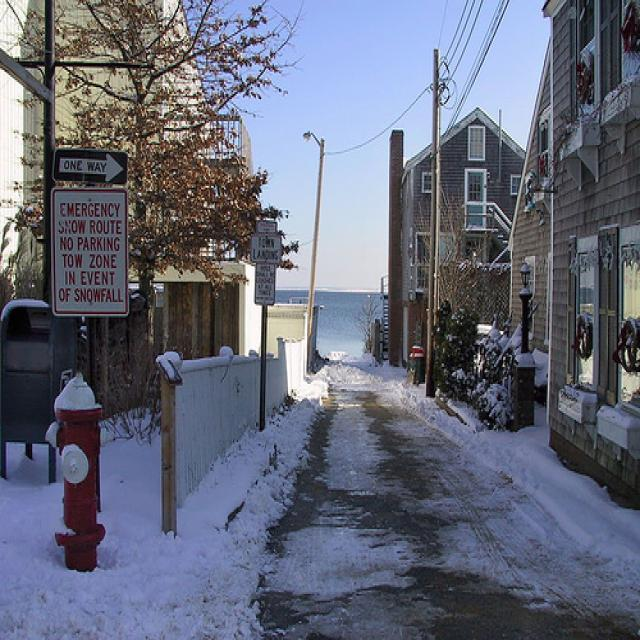fire_hydrant: (46, 371, 105, 574)
